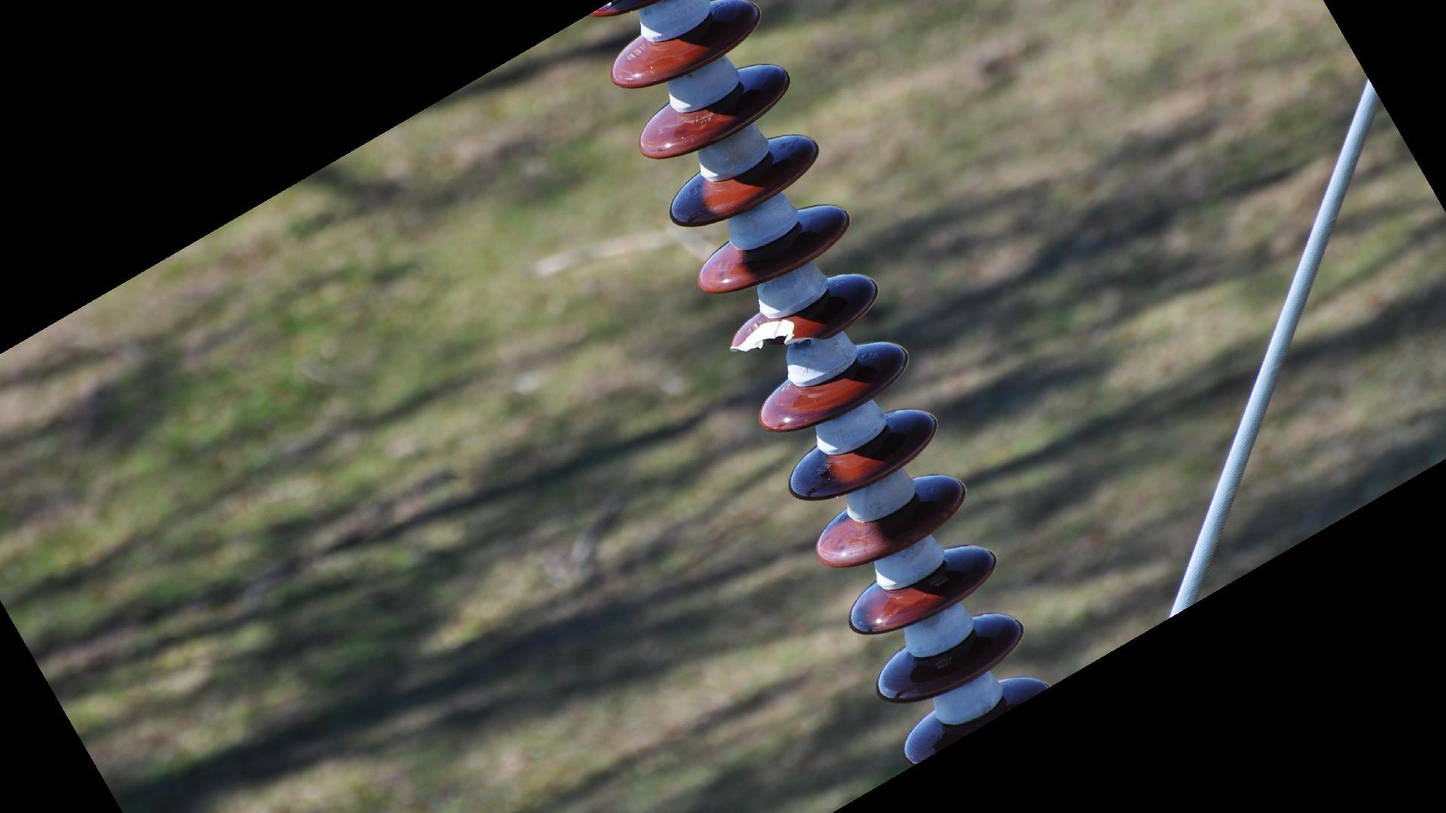insulator: (589, 1, 1061, 771)
insulator_breakage: (725, 316, 816, 360)
